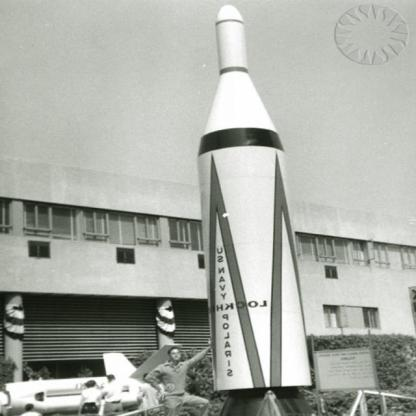MIL_TBM: (196, 6, 316, 416)
